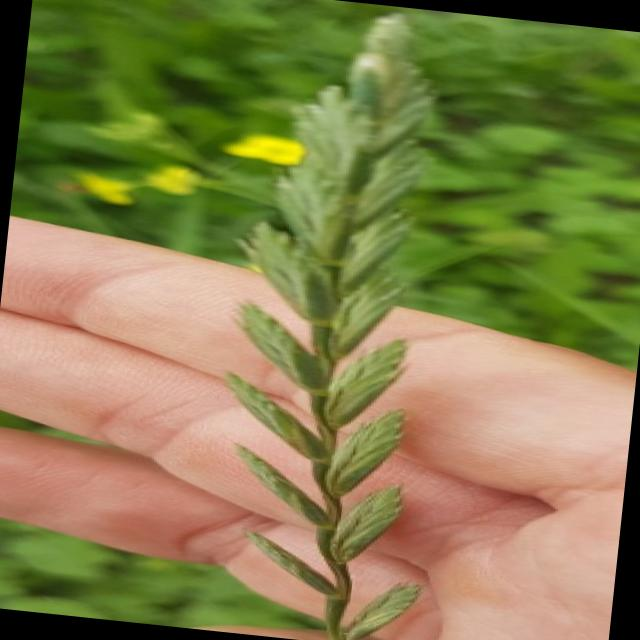Lolium: (188, 0, 483, 640)
